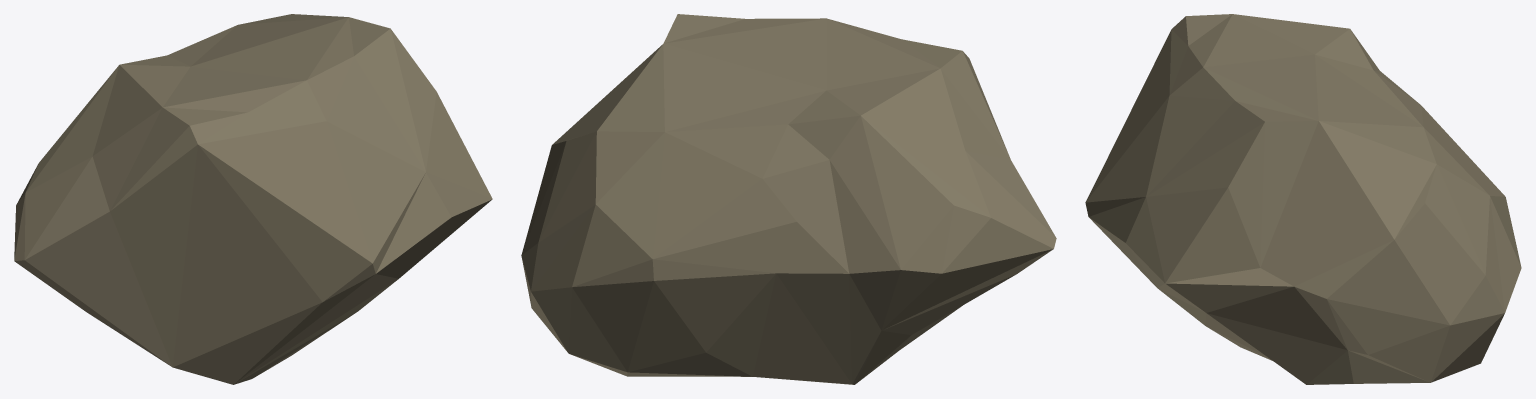
Rendered from CrystalRock_fortexture.fbx.
The picture shows the model from 3 angles, left to right: view 1: azimuth 30°, elevation 25°; view 2: azimuth 150°, elevation 25°; view 3: azimuth 270°, elevation 25°; orthographic projection. The views are drawn at different scales.
Parts seen in each view (by area): view 1: pPlatonic1; view 2: pPlatonic1; view 3: pPlatonic1.
Part boxes in pixels (x1,y1,x2,y2): pPlatonic1: [14, 14, 492, 384]; pPlatonic1: [521, 14, 1056, 384]; pPlatonic1: [1085, 14, 1521, 384].
Bounding box in the file's own units: 46 × 28.47 × 39.65.
